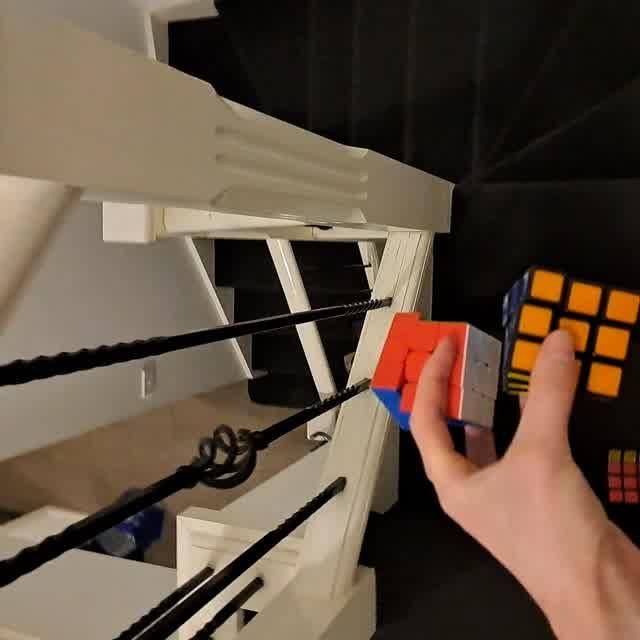rubix_cube: (493, 260, 640, 410), (365, 307, 502, 447), (604, 445, 640, 508)
